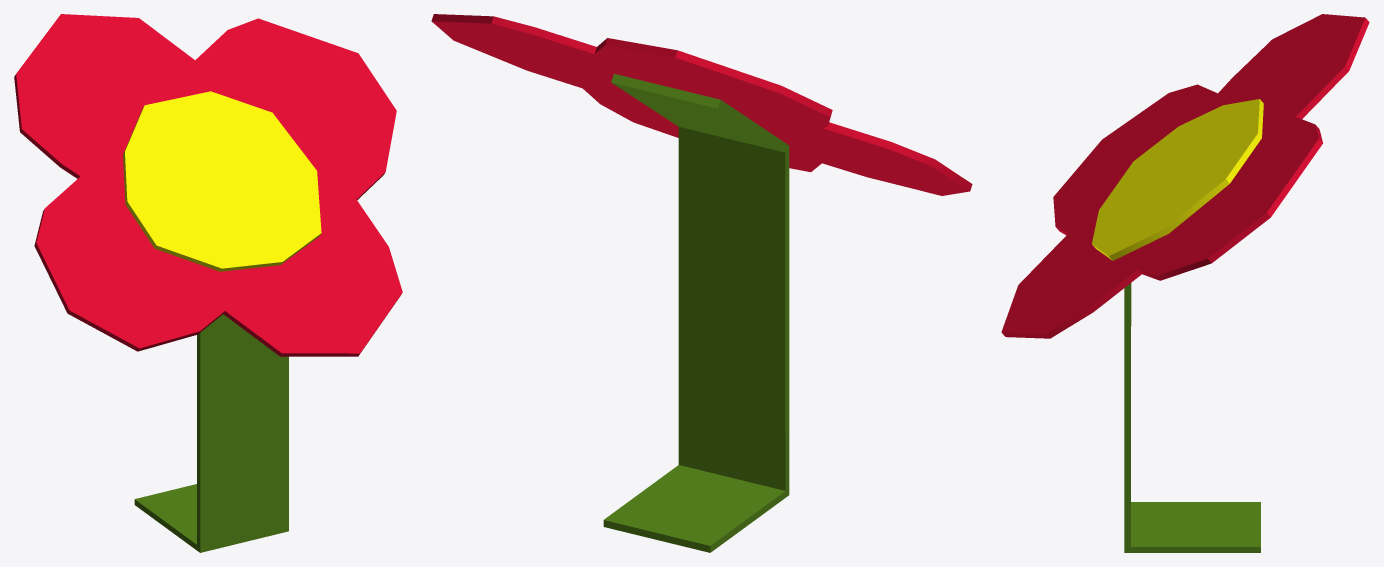
The model's file is Flower.fbx.
3 renders of one model, left to right at view 1: azimuth 30°, elevation 25°; view 2: azimuth 150°, elevation 25°; view 3: azimuth 270°, elevation 25°, orthographic. The views are drawn at different scales.
Visible parts, largest first — view 1: Flower_1; view 2: Flower_1; view 3: Flower_1.
Boxes of the visible parts, x1,y1,x2,y2 form: Flower_1: (14, 14, 402, 552); Flower_1: (431, 14, 972, 552); Flower_1: (1001, 14, 1369, 552).
Size of the model in its own units: 2.05 by 2.38 by 1.66.
1 material, 1 textured.
